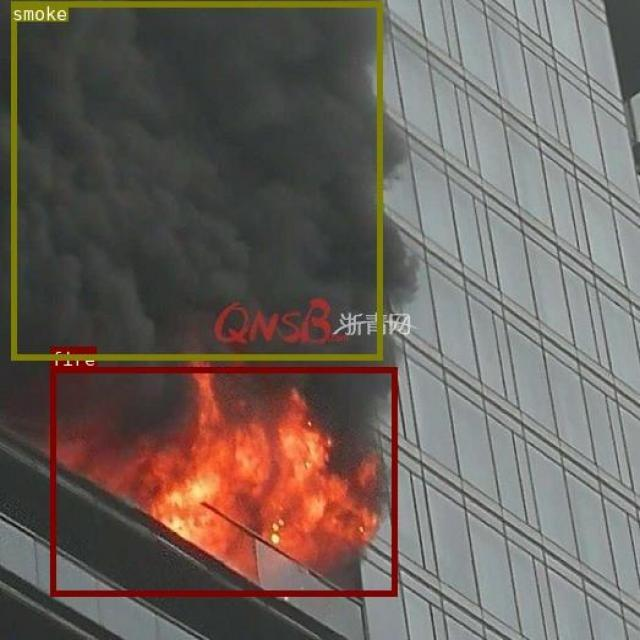fire: (50, 366, 396, 595)
smoke: (11, 1, 382, 359)
